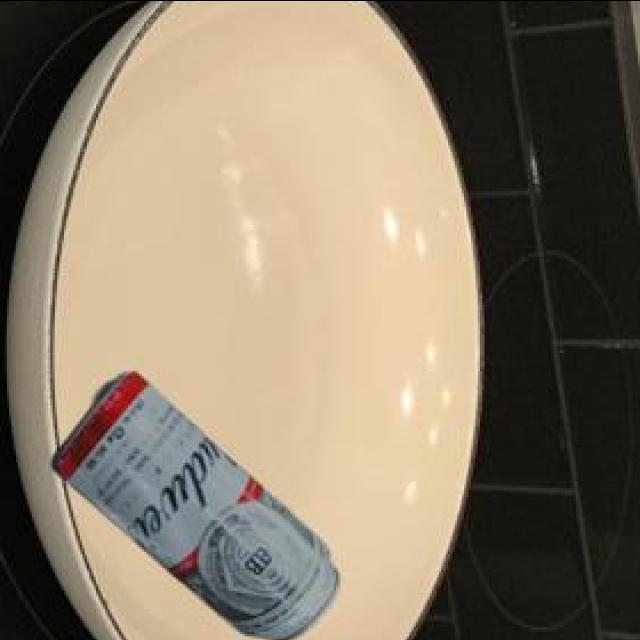logam: (56, 369, 344, 637)
